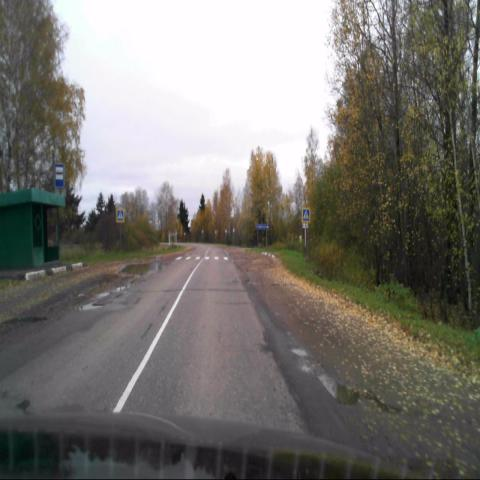5_16: (54, 163, 66, 187)
5_19_1: (301, 206, 311, 224), (116, 207, 126, 224)
